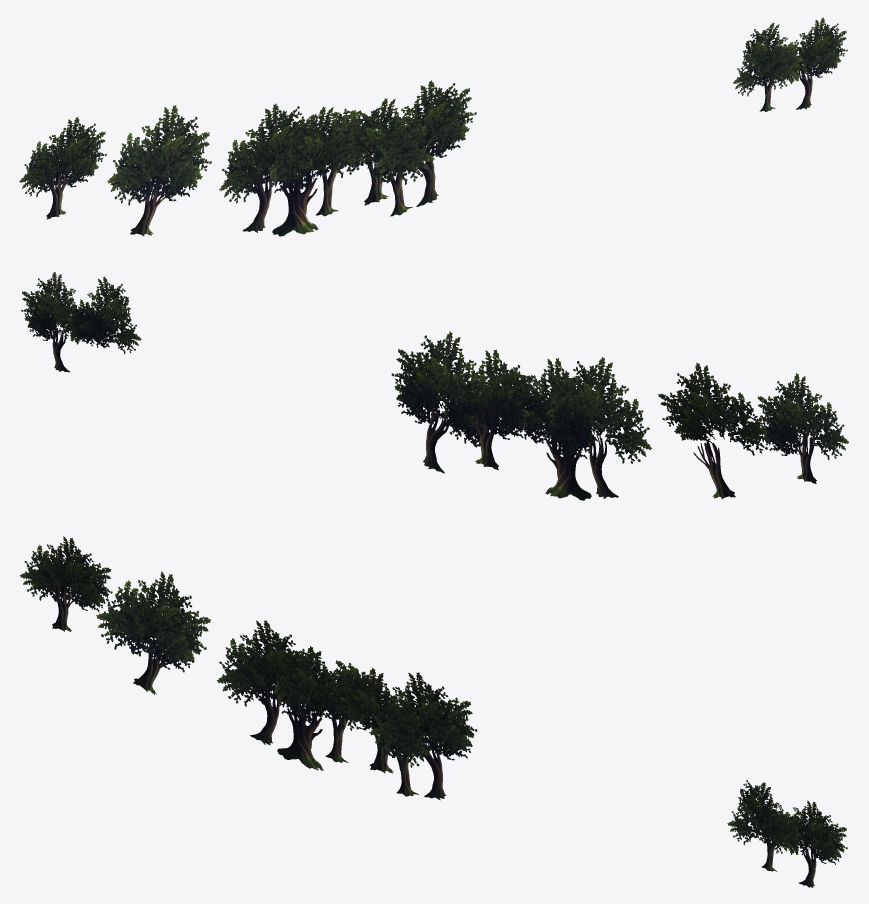
Rendered from Trees BG.FBX.
The picture shows the model from 3 angles, top to bottom: view 1: azimuth 30°, elevation 25°; view 2: azimuth 150°, elevation 25°; view 3: azimuth 330°, elevation 25°; orthographic projection.
Visible parts, largest first — view 1: LVL1 Trees BG_2, LVL1 Trees BG_1, LVL1 Trees BG_3; view 2: LVL1 Trees BG_2, LVL1 Trees BG_1, LVL1 Trees BG_3; view 3: LVL1 Trees BG_2, LVL1 Trees BG_1, LVL1 Trees BG_3.
Boxes of the visible parts, box(x1,y1,x2,y2) form: LVL1 Trees BG_2: box(219, 80, 476, 236); LVL1 Trees BG_1: box(19, 105, 211, 236); LVL1 Trees BG_3: box(733, 17, 847, 111); LVL1 Trees BG_2: box(391, 331, 652, 500); LVL1 Trees BG_1: box(658, 362, 848, 499); LVL1 Trees BG_3: box(21, 272, 141, 372); LVL1 Trees BG_2: box(217, 620, 477, 800); LVL1 Trees BG_1: box(19, 536, 210, 694); LVL1 Trees BG_3: box(727, 780, 847, 887).
Size of the model in its own units: 7831 by 218 by 1708.
